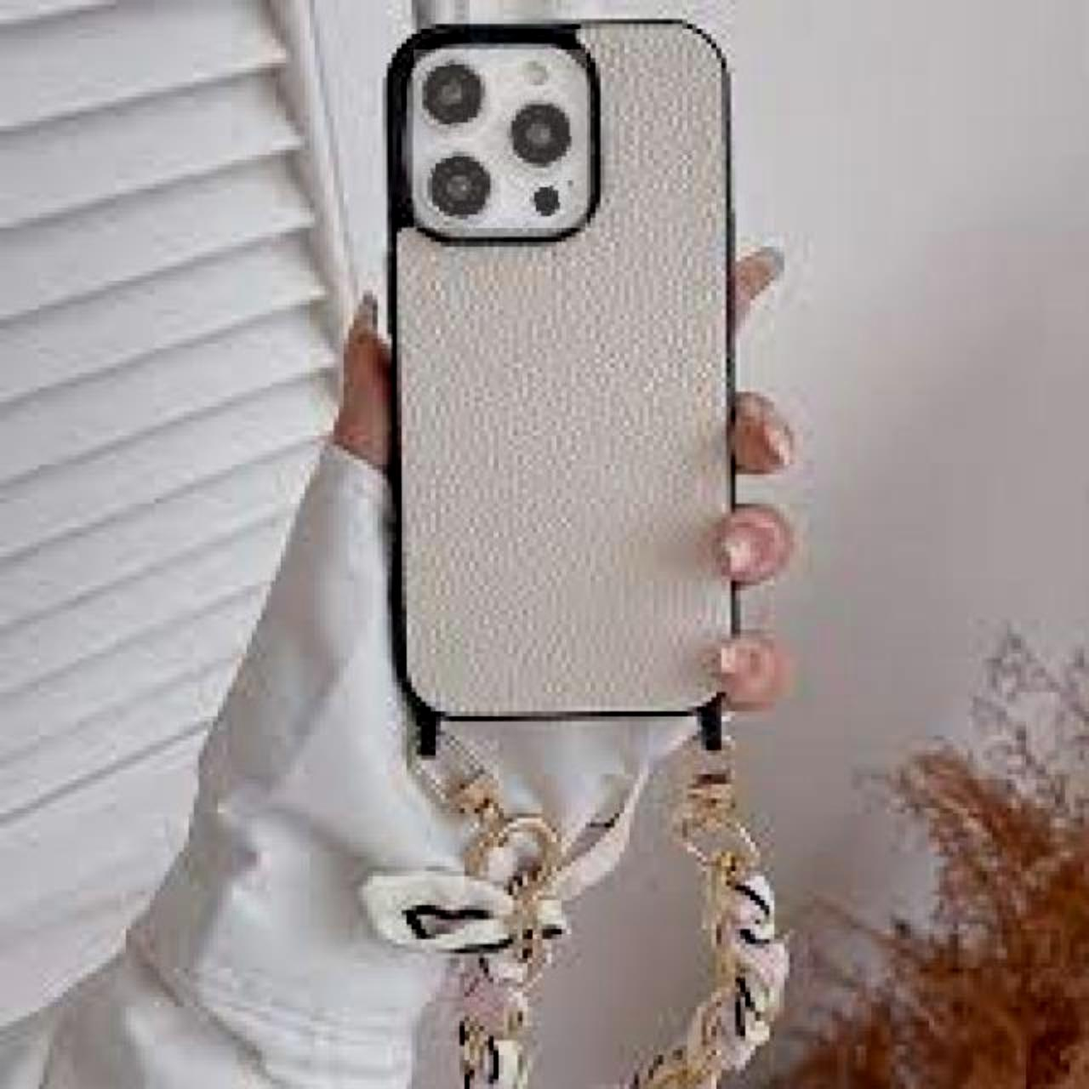phone: (381, 17, 747, 733)
